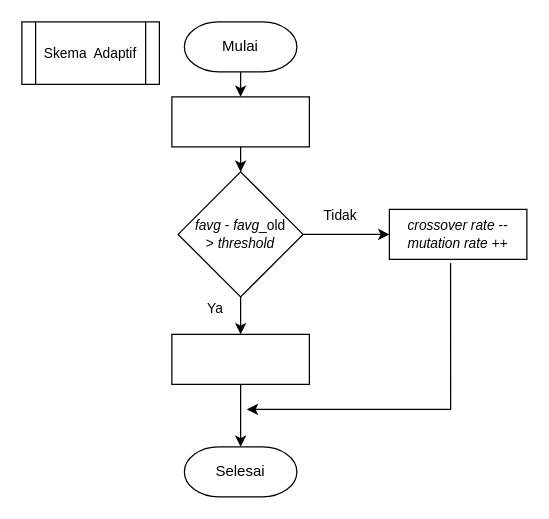
Some shapes in this 549 by 519 pixel diagram are drawn without their labels. The box of each missing label's shape, as (x1, y1, x2, y2) in pixels:
crossover rate ++ mutation rate --: (171, 333, 309, 384)
Hitung Nilai favg: (171, 96, 309, 147)
